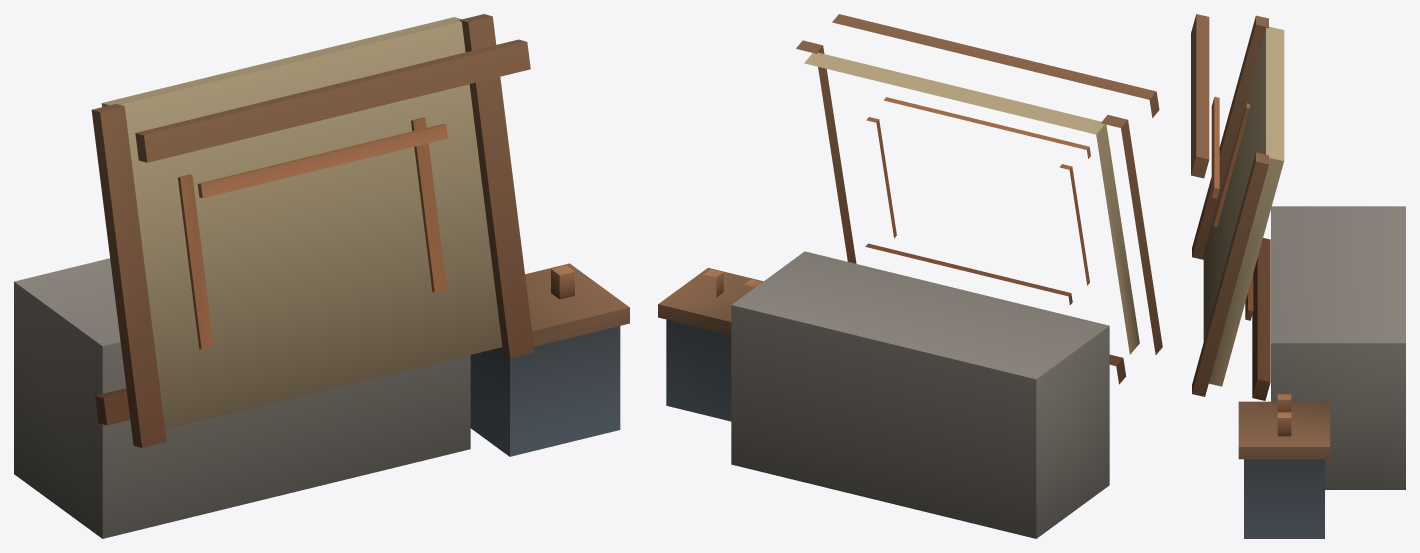
File: ruins-board-low.glb
3 renders of one model, left to right at view 1: azimuth 30°, elevation 25°; view 2: azimuth 150°, elevation 25°; view 3: azimuth 270°, elevation 25°, orthographic. The views are drawn at different scales.
Parts seen in each view (by area): view 1: 0_ruins_board; view 2: 0_ruins_board; view 3: 0_ruins_board.
Boxes of the visible parts, <box> form: 0_ruins_board: <box>14,14,629,538</box>; 0_ruins_board: <box>658,14,1162,538</box>; 0_ruins_board: <box>1191,14,1405,538</box>.
Bounding box in the file's own units: 1.69 × 1.37 × 0.7961.
